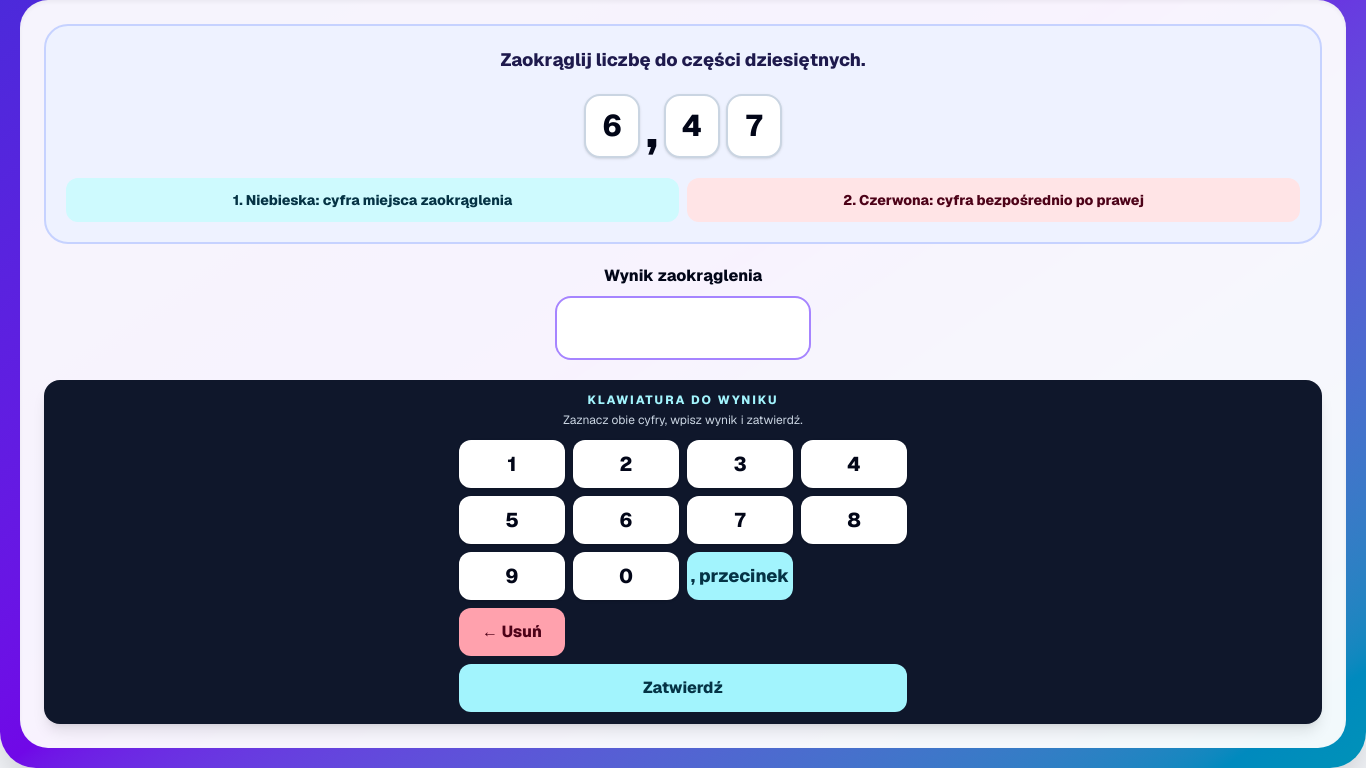
it: RoundingLessonLab › blokuje pustą odpowiedź i korzysta wyłącznie z klawiatury lekcji
(page scrolled)
Click the button "Zatwierdź".
click(683, 688)  # box [459,664,907,712]
(page scrolled)
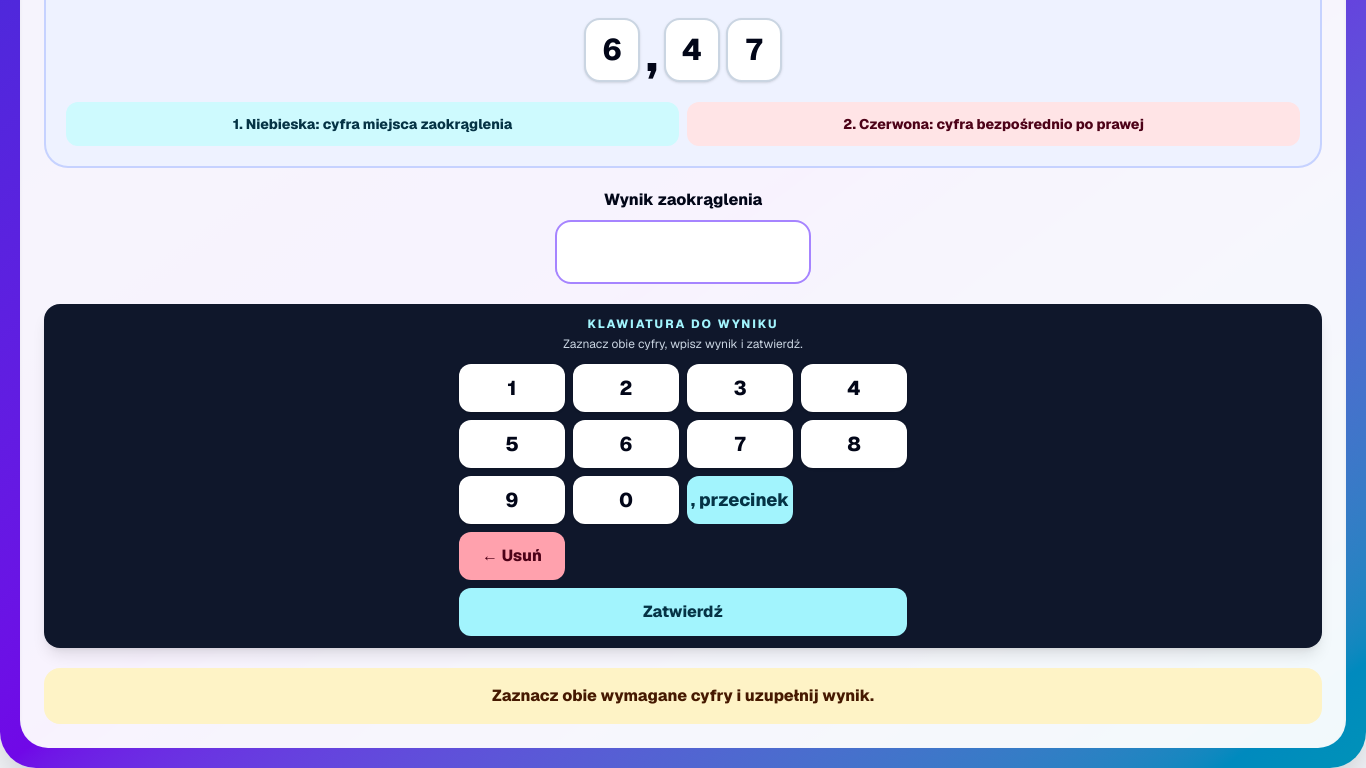
Check: the text "Zaznacz obie wymagane cyfry i uzupełnij wynik." is shown, box [44,668,1322,724]
